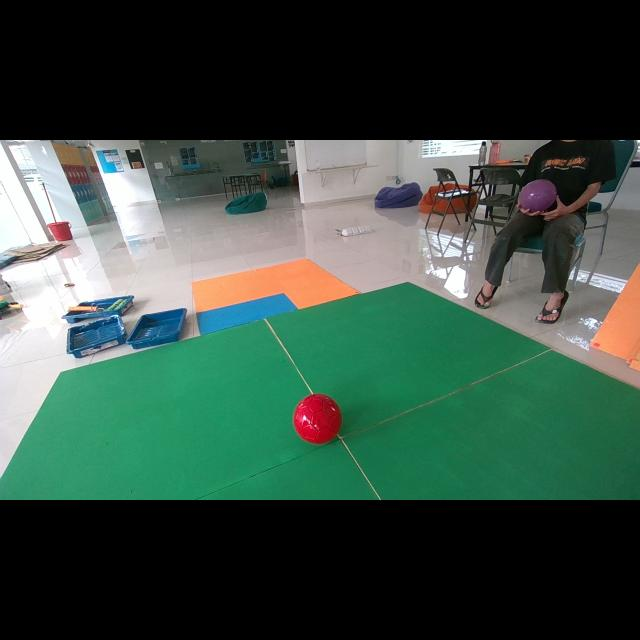P: (519, 180, 558, 212)
R: (292, 395, 342, 444)
